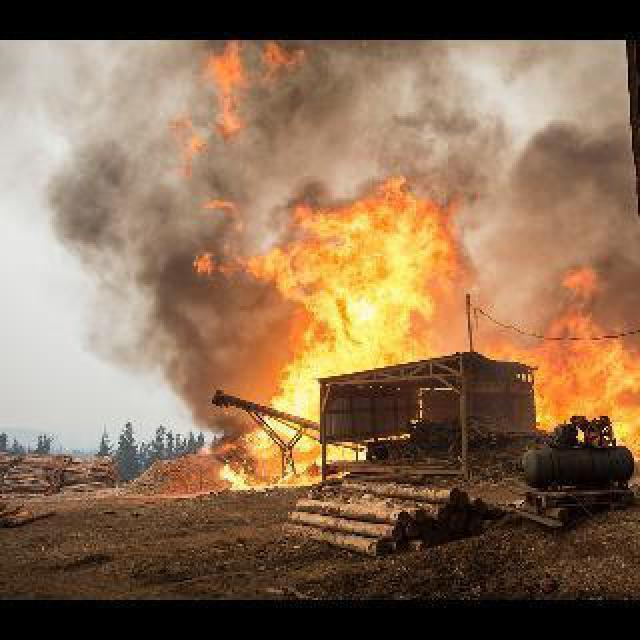Fire: (170, 174, 466, 454), (480, 242, 638, 456), (160, 42, 312, 180), (220, 460, 320, 484)
